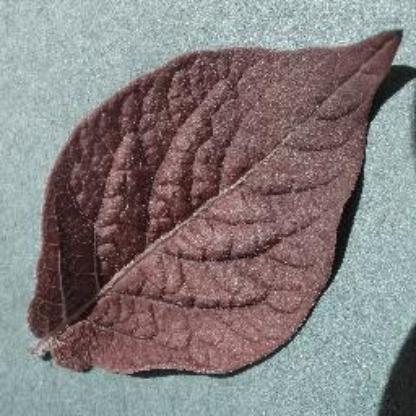Healthy-plant: (22, 20, 402, 392)
